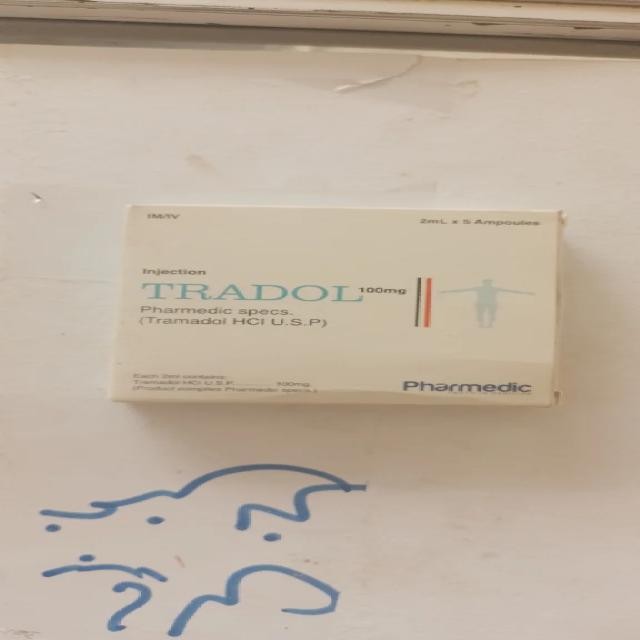drug-name: (140, 280, 360, 304)
